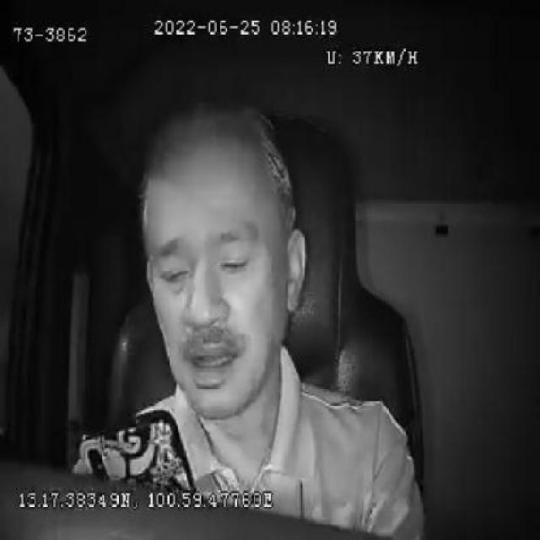phone: (80, 406, 198, 492)
